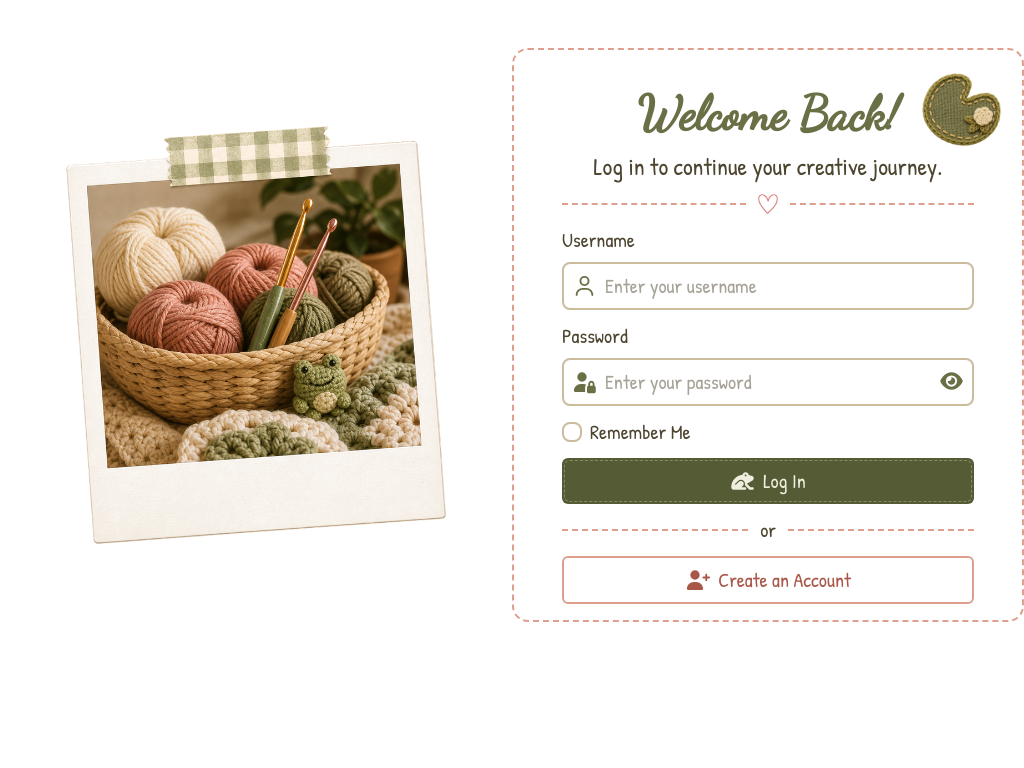
it: Login › shows authentication failures
Type "froggy" into the field labelled "Username" at (784, 286), box [605,272,964,300]
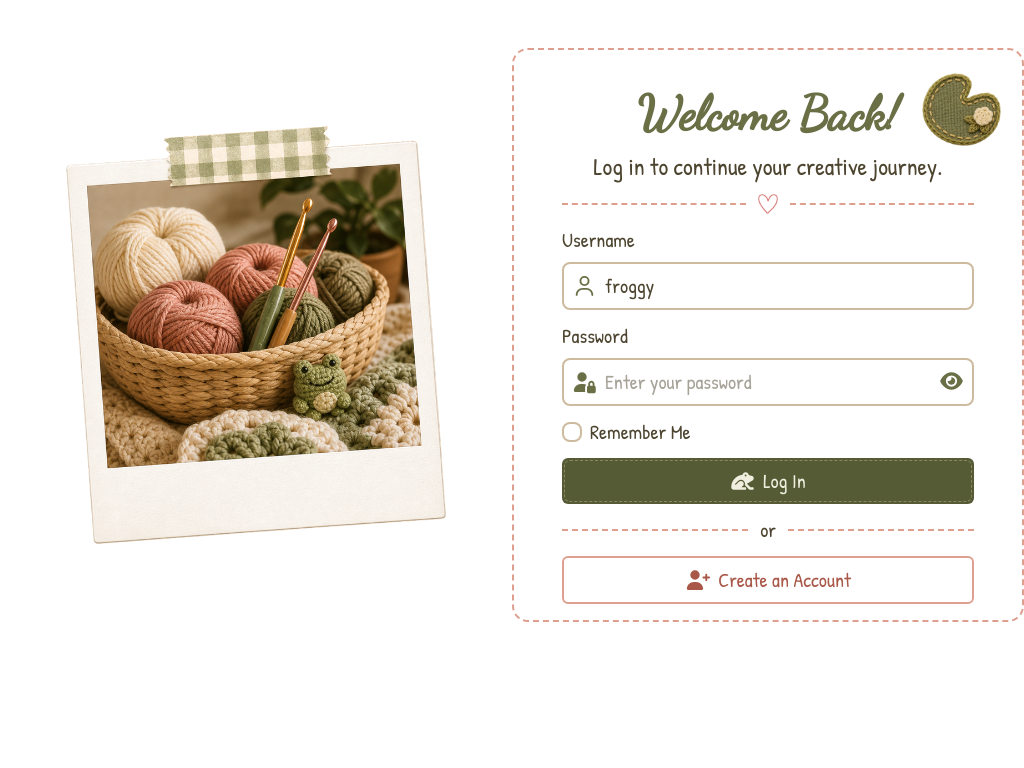
Type "wrong" into the password field labelled "Password" at (768, 382), box [605,368,931,396]
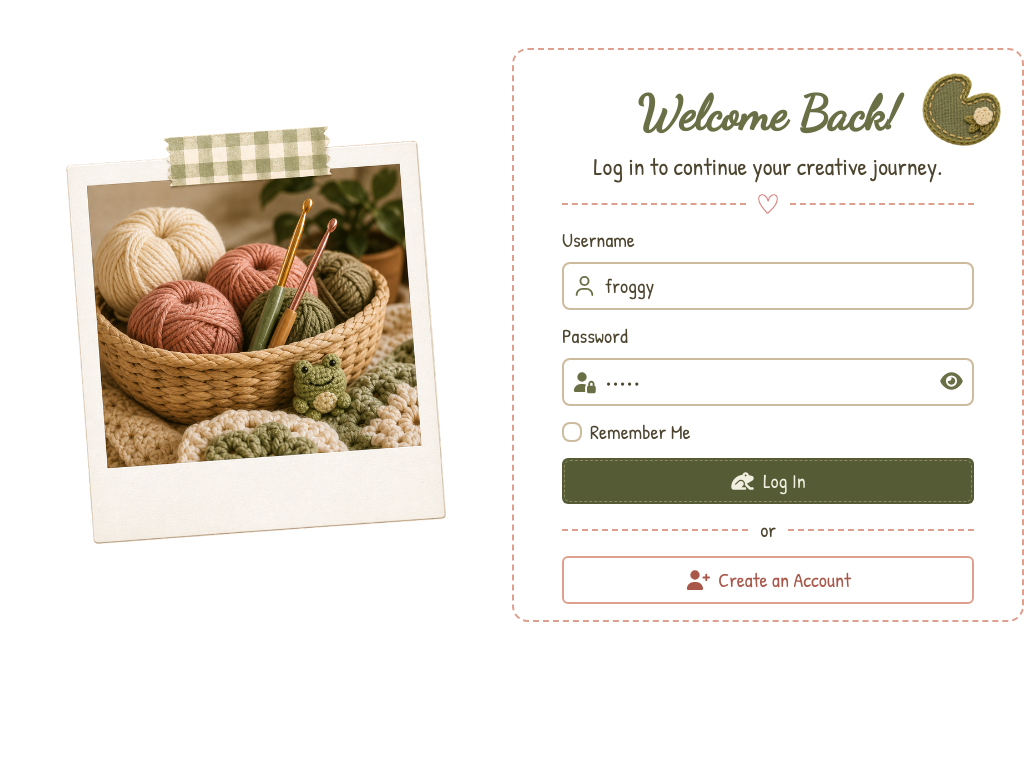
Click the button "Log In" at (768, 481), box [562,458,974,504]
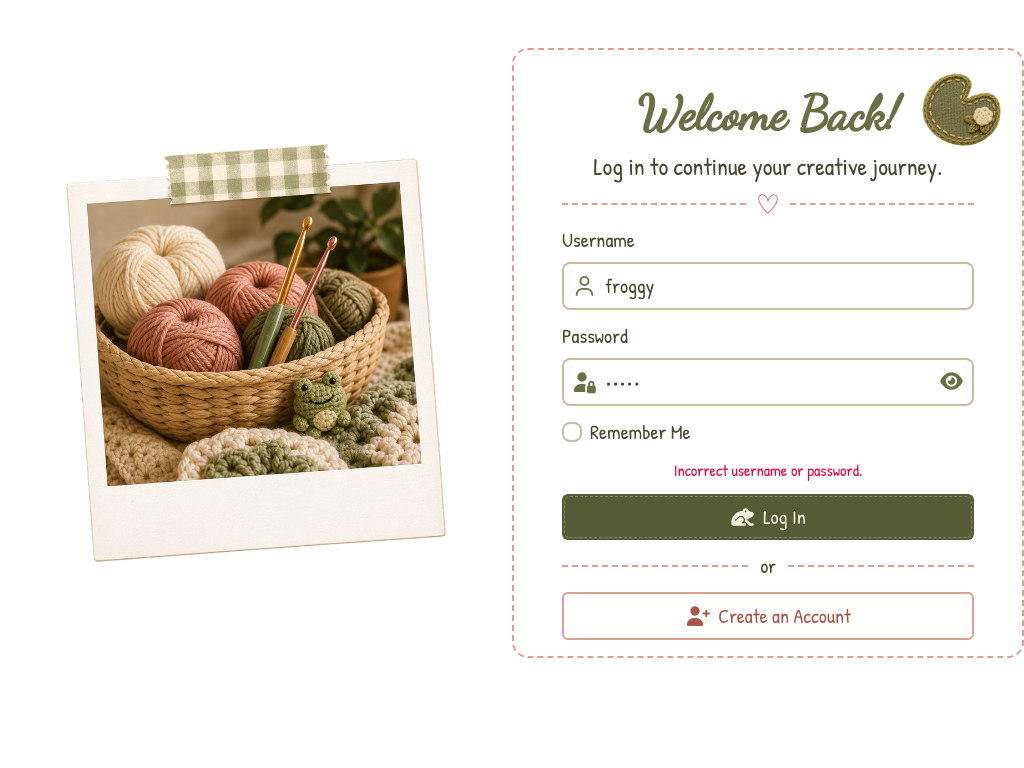
Expected: the message reads "Incorrect username or password.", [674,459,862,481]
